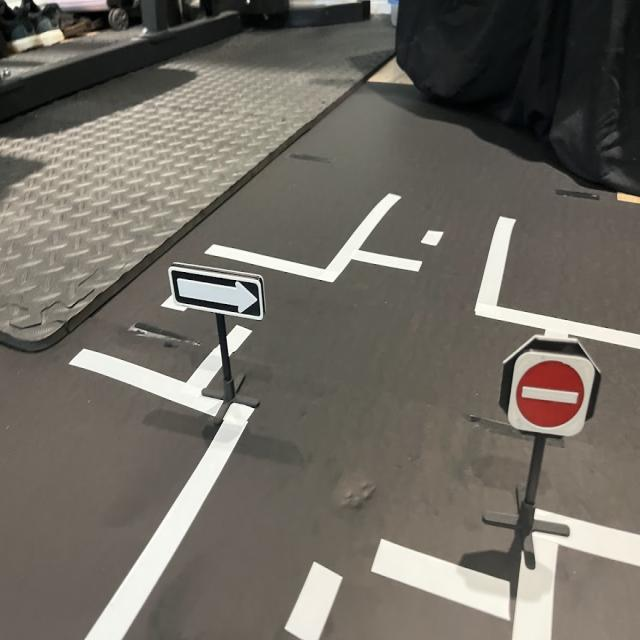sign_noentry: (504, 351, 604, 441)
sign_oneway_right: (168, 260, 271, 321)
